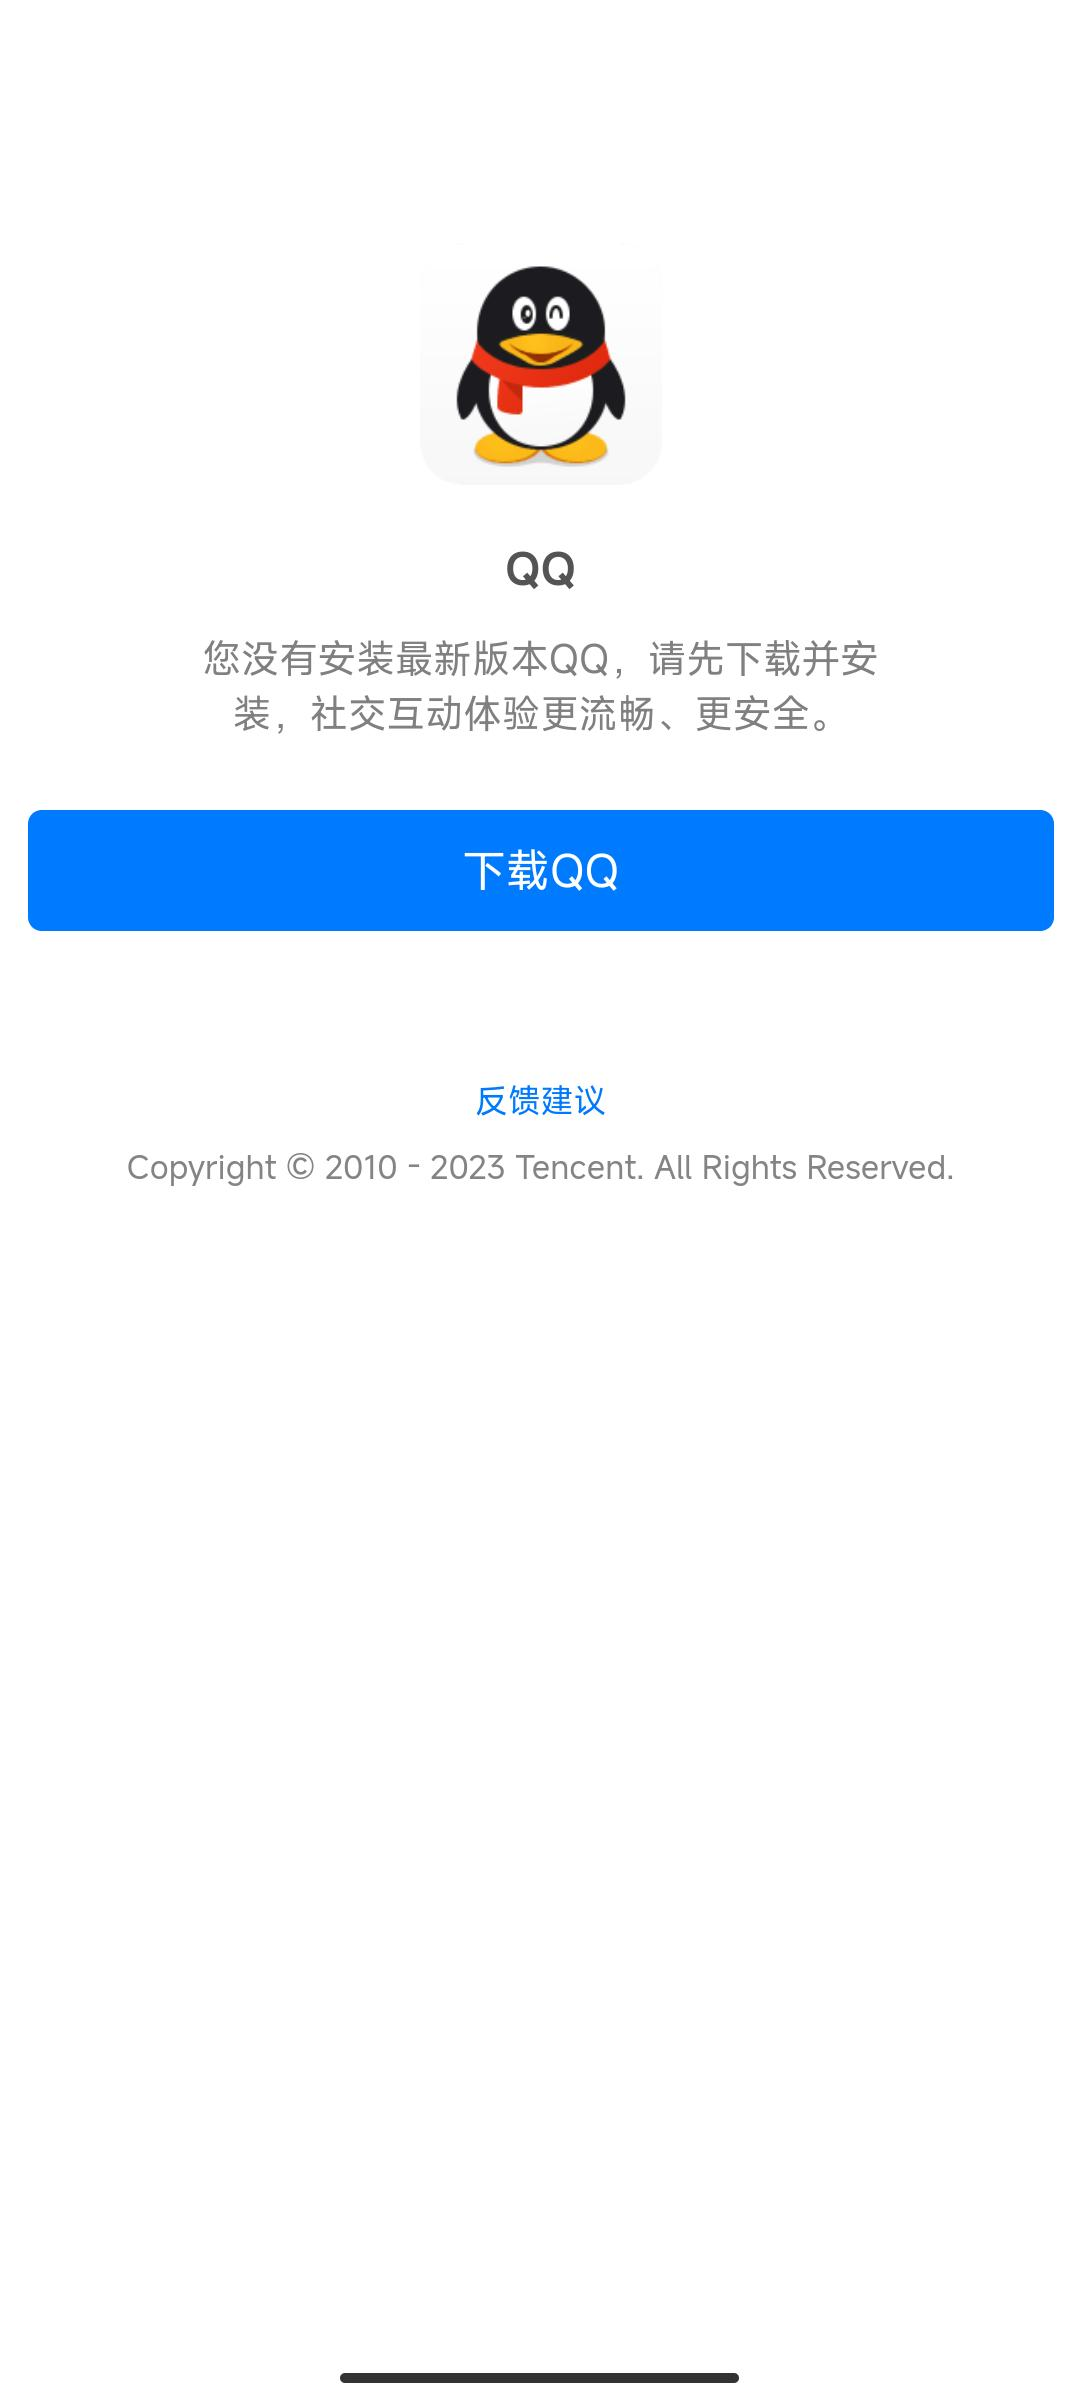ui_group: (15, 511, 1062, 951)
